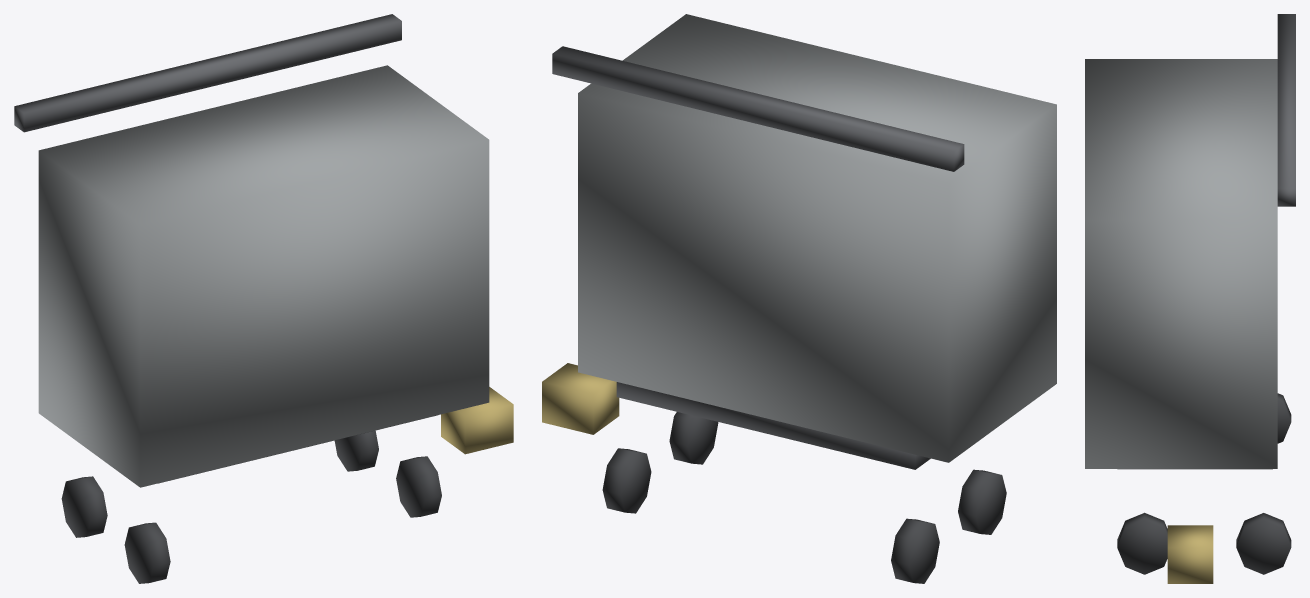
The model's file is grocery_cart_11.glb.
3 views of the same model, side by side, from view 1: azimuth 30°, elevation 25°; view 2: azimuth 150°, elevation 25°; view 3: azimuth 270°, elevation 25° (orthographic). The views are drawn at different scales.
Visible parts, largest first — view 1: world; view 2: world; view 3: world.
Boxes of the visible parts, x1=… form: world: x1=14, y1=14, x2=513, y2=583; world: x1=542, y1=14, x2=1056, y2=583; world: x1=1085, y1=14, x2=1295, y2=583.
Size of the model in its own units: 0.9256 by 0.882 by 0.414.
